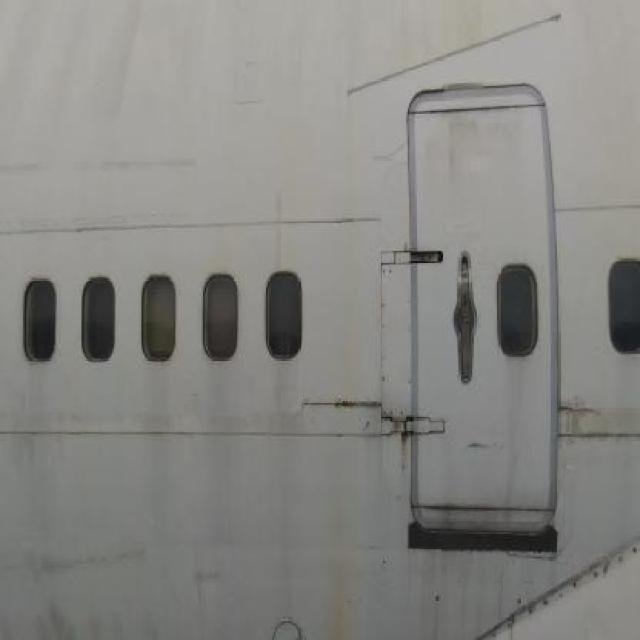Rust: (320, 448, 362, 638), (328, 244, 370, 405)
Scartch: (1, 535, 164, 640), (78, 143, 214, 200), (0, 139, 74, 204), (184, 537, 231, 628)
